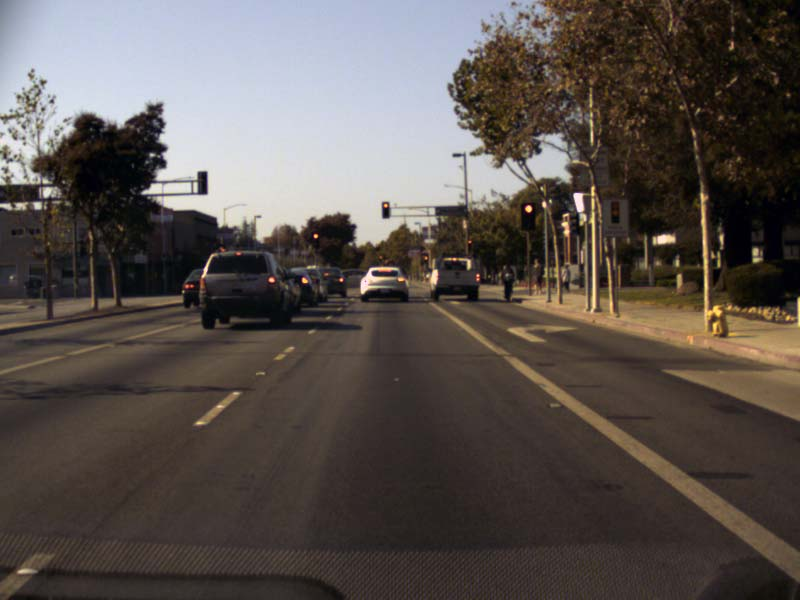Red: (521, 202, 534, 230), (381, 201, 388, 219), (311, 231, 318, 247), (467, 239, 472, 248)
Yellow: (420, 252, 427, 266)
